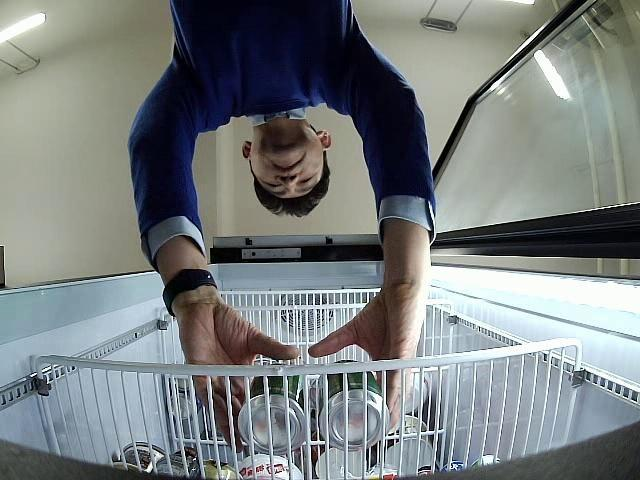12_chilsungCider: (318, 359, 390, 449), (237, 374, 305, 452)
